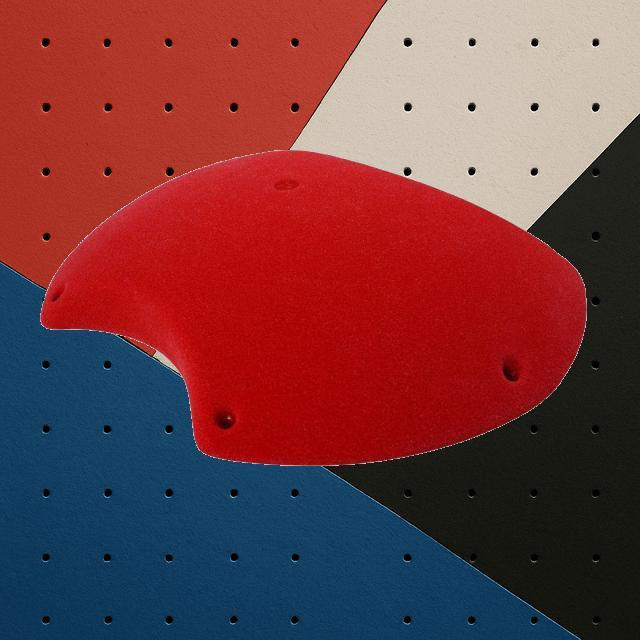Sloper: (40, 147, 588, 467)
